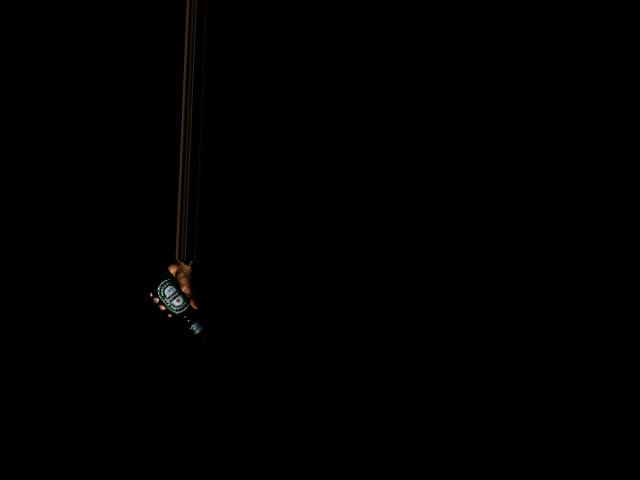beer: (146, 266, 212, 344)
